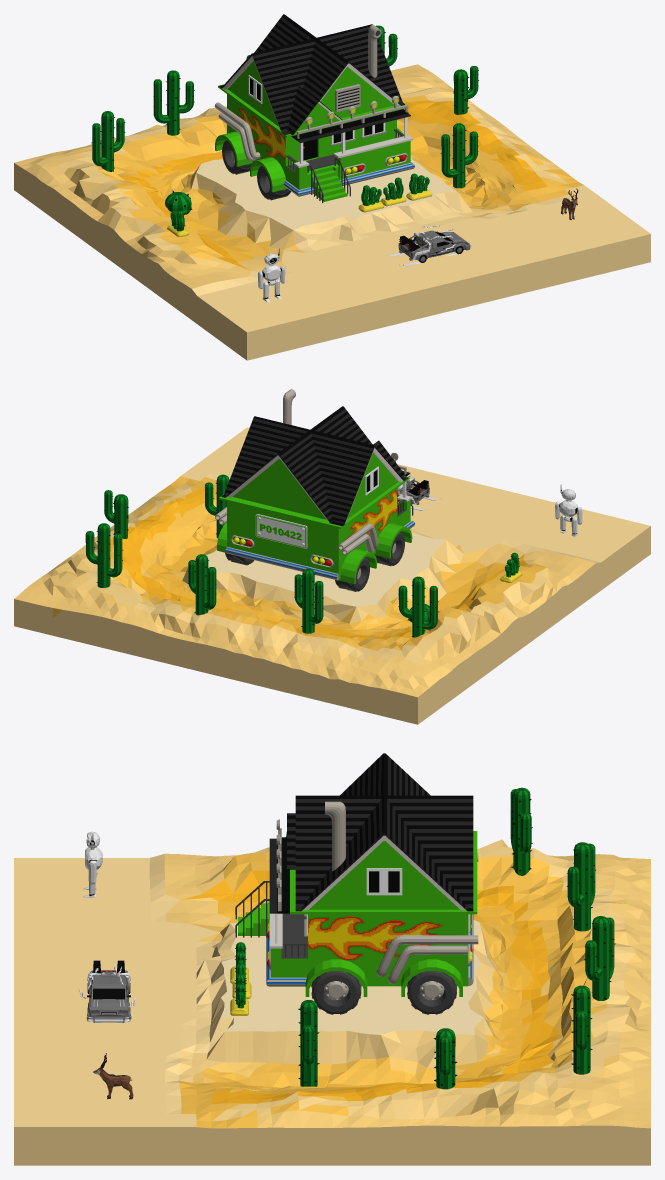
The picture shows the model from 3 angles, top to bottom: view 1: azimuth 30°, elevation 25°; view 2: azimuth 150°, elevation 25°; view 3: azimuth 270°, elevation 25°; orthographic projection. The views are drawn at different scales.
Visible parts, largest first — view 1: Cube.001, Cube.1474, VEHICLES_DELOREAN, Cylinder.044, Cylinder.037, Cylinder.045, Cylinder.038, OBJRANDOM_PLATZEEBOT, Cylinder.041, Cylinder.039; view 2: Cube.001, Cube.1474, Cylinder.042, Cylinder.045, Cylinder.044, Cylinder.043, Cylinder.038, OBJRANDOM_PLATZEEBOT, Cylinder.037, VEHICLES_DELOREAN; view 3: Cube.001, Cube.1474, VEHICLES_DELOREAN, Cylinder.043, Cylinder.044, Cylinder.045, Cylinder.042, Cylinder.037, Cylinder.038, OBJRANDOM_PLATZEEBOT.
Boxes of the visible parts, x1,y1,x2,y2 form: Cube.001: (14, 64, 650, 360); Cube.1474: (214, 14, 414, 202); VEHICLES_DELOREAN: (390, 225, 471, 266); Cylinder.044: (153, 70, 194, 135); Cylinder.037: (440, 123, 478, 188); Cylinder.045: (91, 111, 125, 171); Cylinder.038: (453, 66, 478, 114); OBJRANDOM_PLATZEEBOT: (258, 248, 285, 302); Cylinder.041: (406, 173, 432, 200); Cylinder.039: (358, 185, 384, 212); Cube.001: (14, 427, 650, 724); Cube.1474: (215, 389, 415, 591); Cylinder.042: (85, 523, 123, 587); Cylinder.045: (398, 576, 438, 637); Cylinder.044: (294, 568, 323, 633); Cylinder.043: (188, 554, 216, 615); Cylinder.038: (104, 490, 128, 538); OBJRANDOM_PLATZEEBOT: (555, 484, 582, 536); Cylinder.037: (205, 474, 229, 538); VEHICLES_DELOREAN: (397, 471, 440, 510); Cube.001: (14, 839, 650, 1165); Cube.1474: (235, 753, 478, 1014); VEHICLES_DELOREAN: (78, 960, 136, 1022); Cylinder.043: (584, 916, 615, 1000); Cylinder.044: (566, 842, 595, 931); Cylinder.045: (510, 787, 532, 875); Cylinder.042: (571, 985, 592, 1074); Cylinder.037: (298, 1000, 319, 1086); Cylinder.038: (434, 1028, 457, 1089); OBJRANDOM_PLATZEEBOT: (83, 831, 102, 897).
Size of the model in its own units: 4002 by 1865 by 4001.
42 materials, 3 textured.
